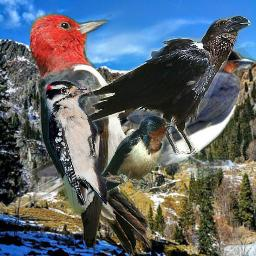Crow: (71, 15, 252, 155)
Swallow: (3, 41, 256, 217), (72, 115, 174, 195)
Woodpecker: (30, 11, 155, 256), (45, 80, 107, 207)
